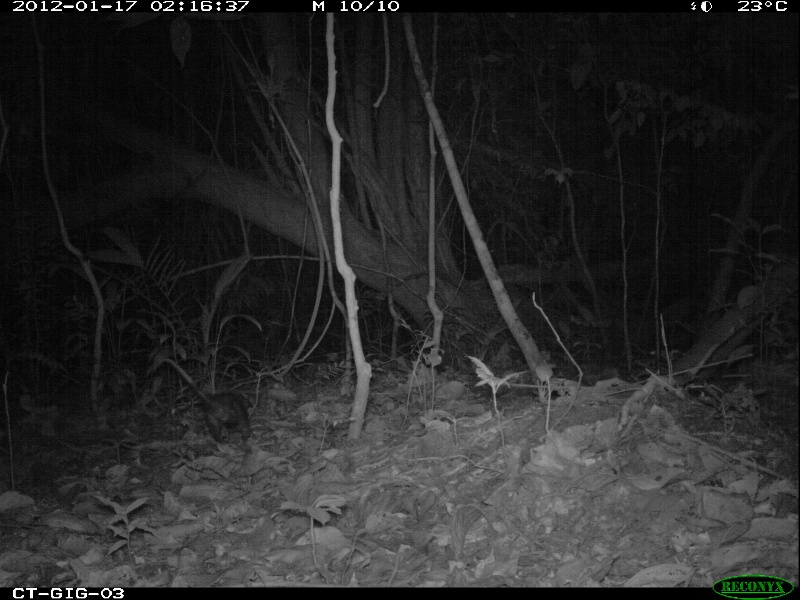opossum: (157, 357, 252, 446)
